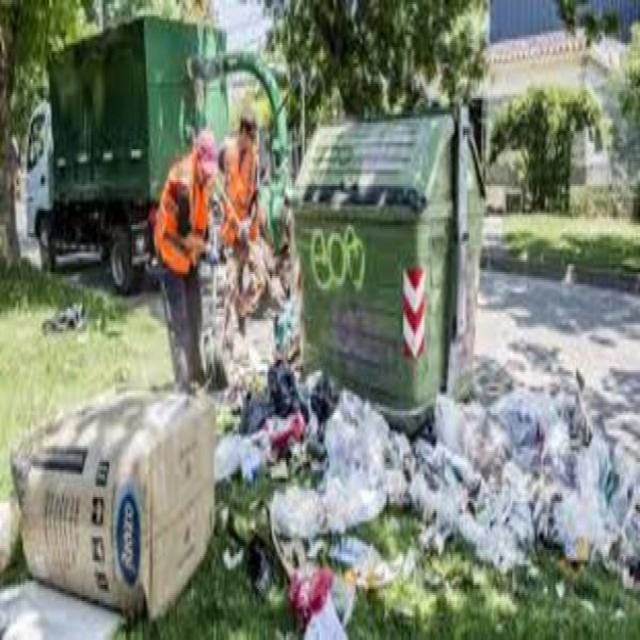garbage: (255, 358, 639, 638), (203, 225, 304, 395)
